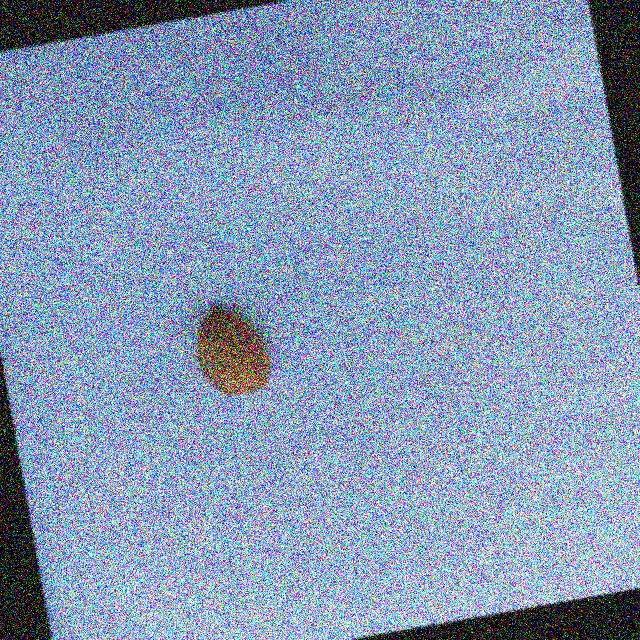grade2: (187, 296, 282, 405)
